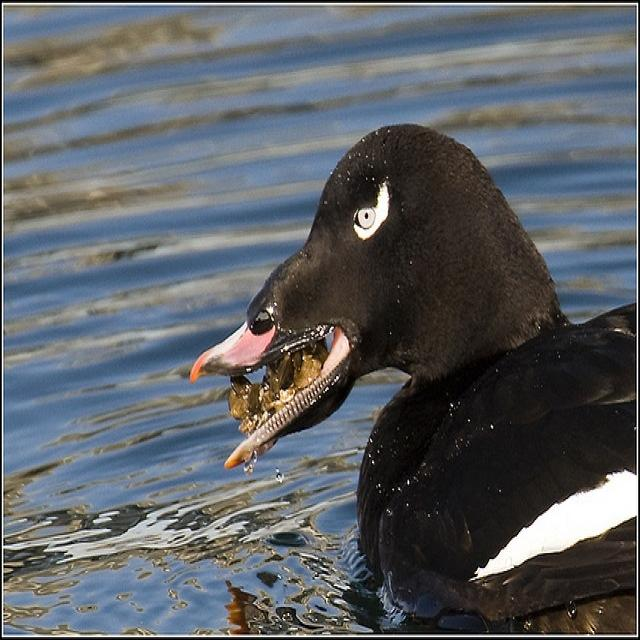bird: (177, 105, 633, 633)
